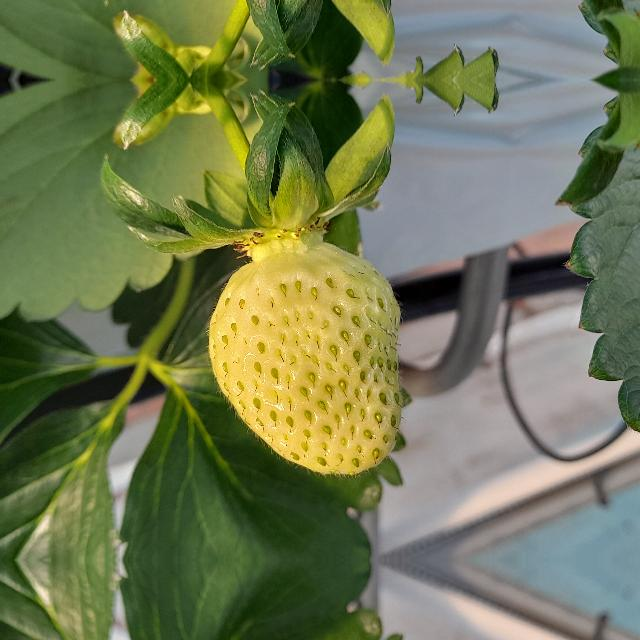Health_25: (204, 242, 403, 478)
